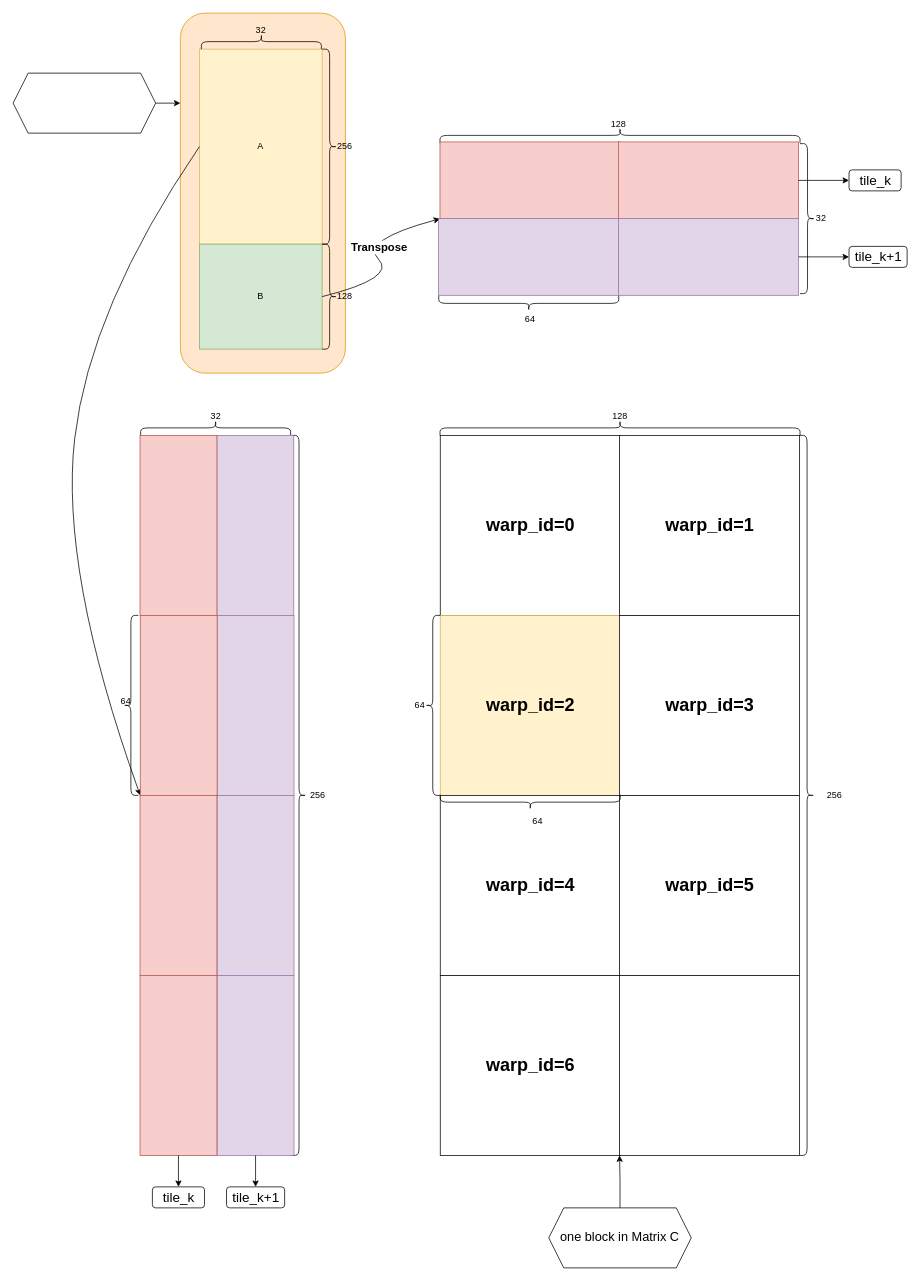
The diagram is 920 pixels wide and 1281 high, and some of its shapes have lost their labels. Each missing label, with the centre of its shape:
"part of shared memory smem[][AB_SMEM_STRIDE]" goes at pixel 84 102.
"warp_id=7" goes at pixel 709 1065.
